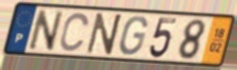5: (148, 16, 179, 59)
8: (176, 18, 207, 62)
C: (57, 12, 91, 54)
G: (117, 15, 149, 57)
N: (84, 12, 125, 56), (27, 8, 65, 52)
